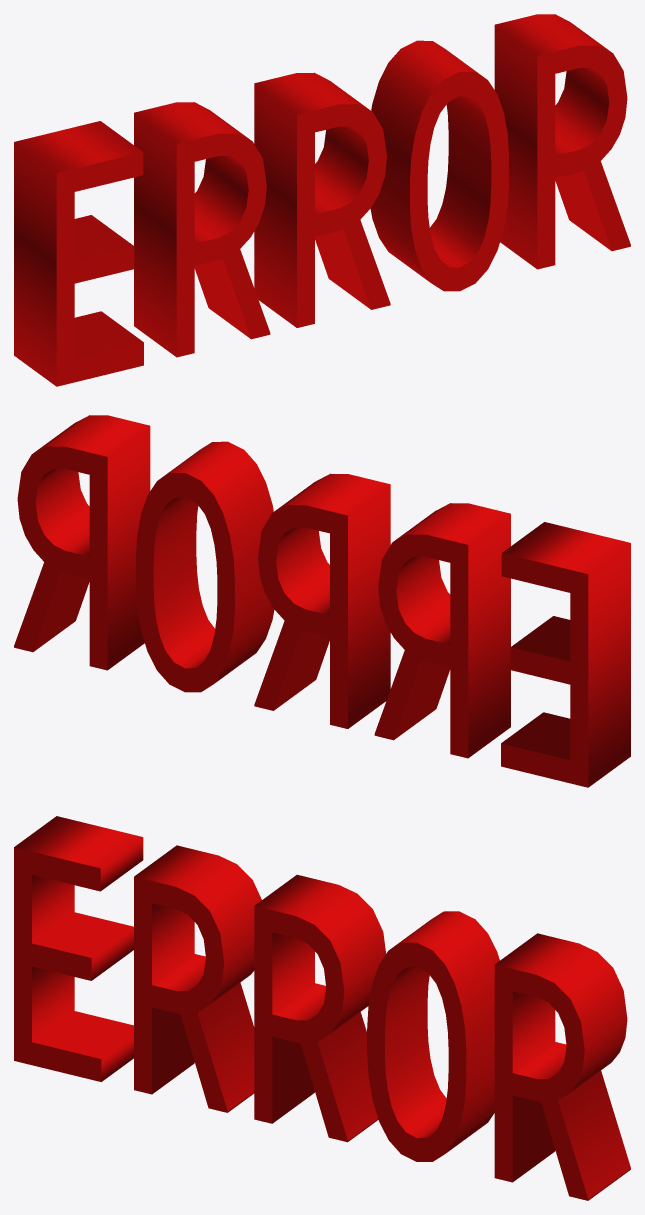
The model's file is error.obj.
3 views of the same model, one above another, from view 1: azimuth 30°, elevation 25°; view 2: azimuth 150°, elevation 25°; view 3: azimuth 330°, elevation 25° (orthographic).
Parts seen in each view (by area): view 1: Text; view 2: Text; view 3: Text.
Boxes of the visible parts, left/top/right/bottom form: Text: left=14, top=14, right=630, bottom=386; Text: left=14, top=415, right=630, bottom=787; Text: left=14, top=816, right=630, bottom=1200.
Bounding box in the file's own units: 3.26 × 1.19 × 0.42.
